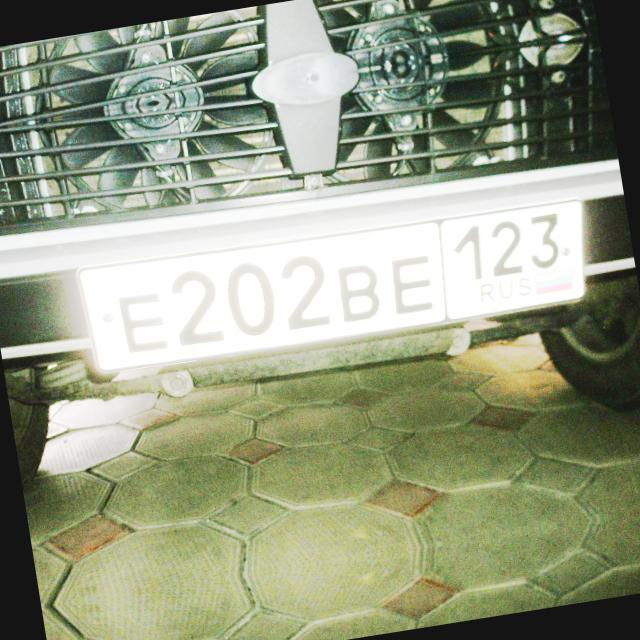citizen: (70, 178, 600, 386)
